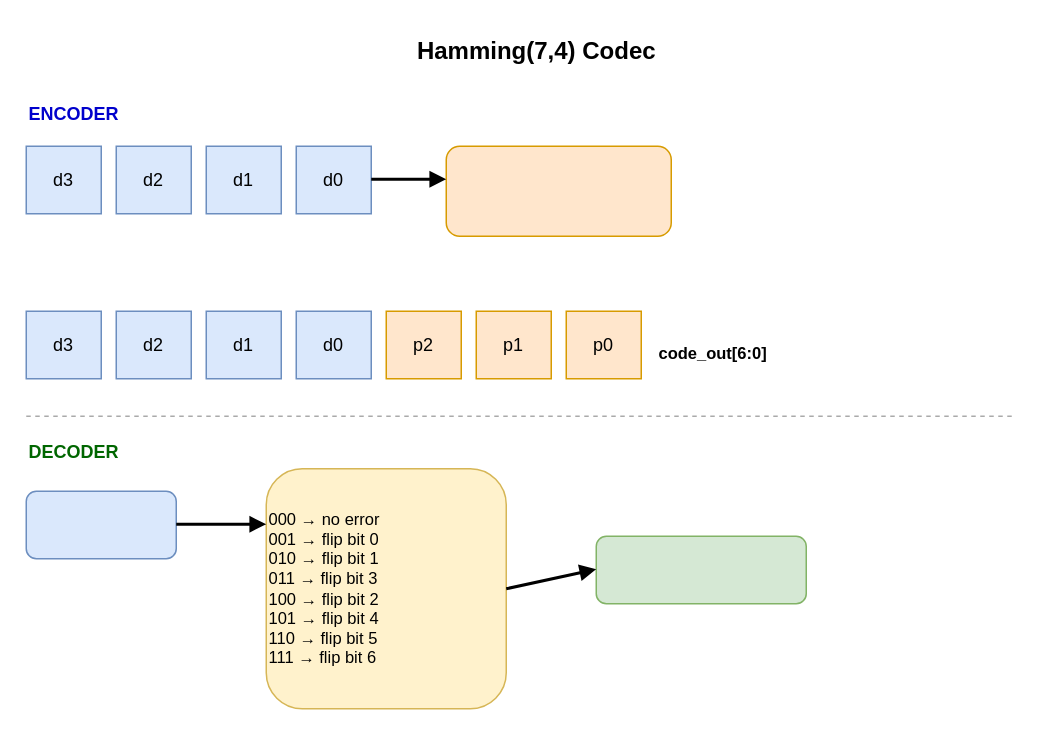
Some shapes in this 1044 by 735 pixel diagram are drawn without their labels. Each missing label, with the box of its shape:
data_out[3:0] = corrected[6:3]: (595, 535, 806, 604)
p2=d1⊕d2⊕d3 p1=d0⊕d2⊕d3 p0=d0⊕d1⊕d3: (445, 145, 671, 236)
Syndrome s[2:0]: (25, 490, 176, 559)
